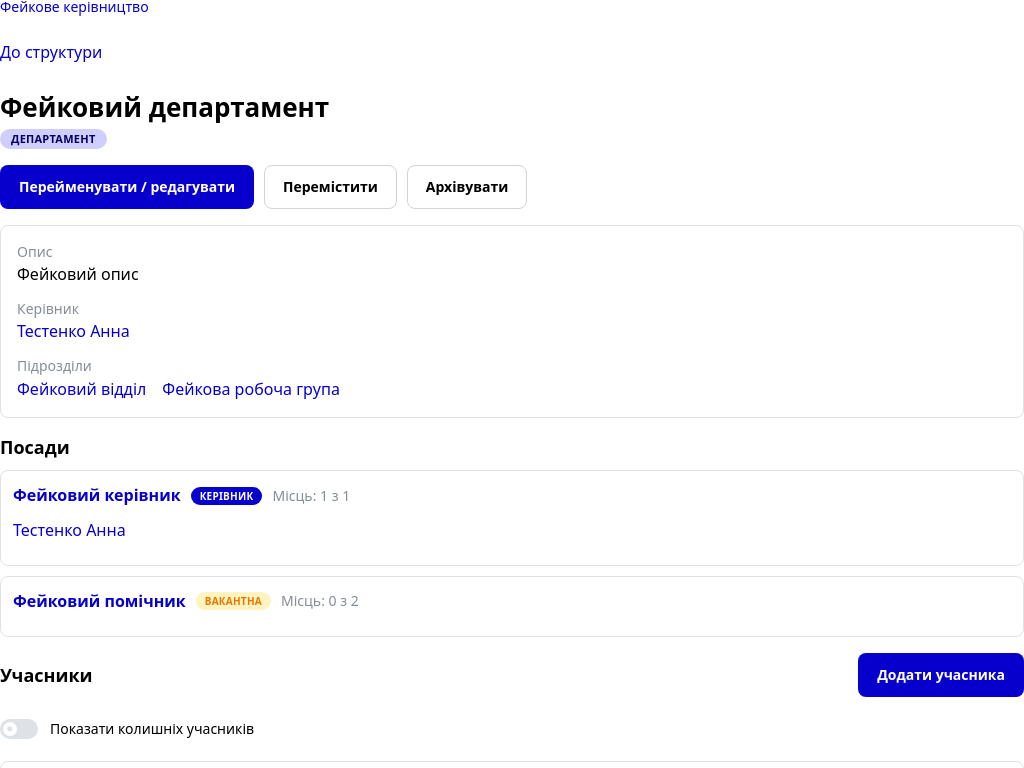
OrgUnitPage › shows the backend 403 as a missing permission
Click the button "Архівувати" at x=467, y=187, box [407,165,527,209]
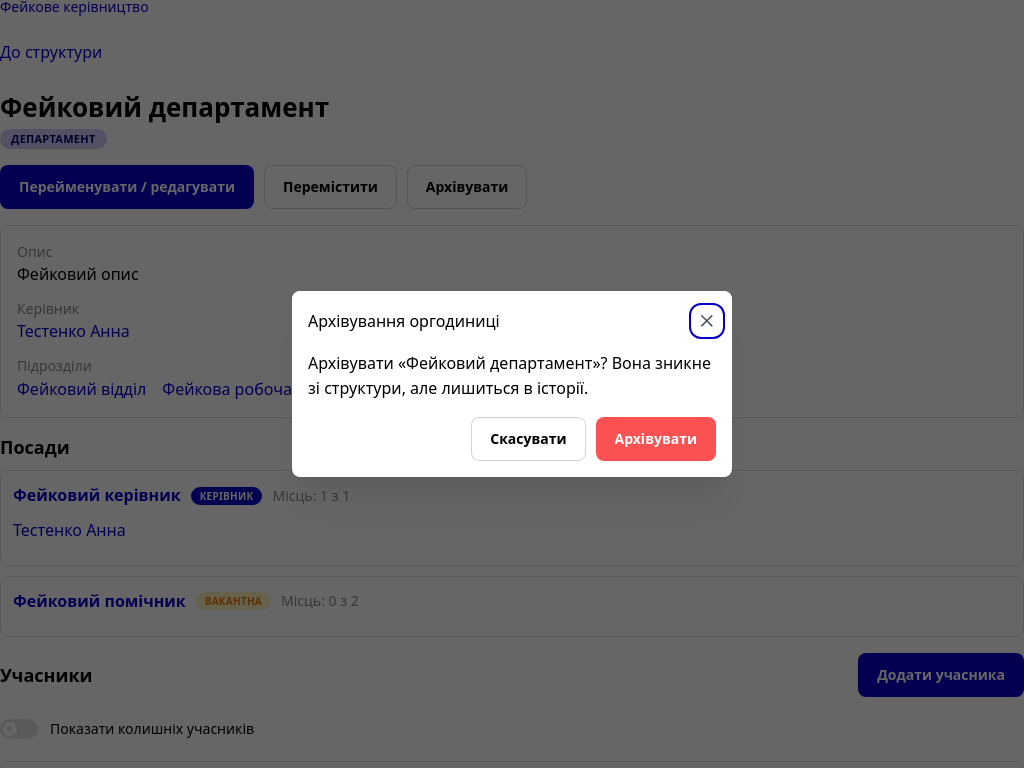
Click the button "Архівувати" at x=656, y=439, box [596,417,716,461]
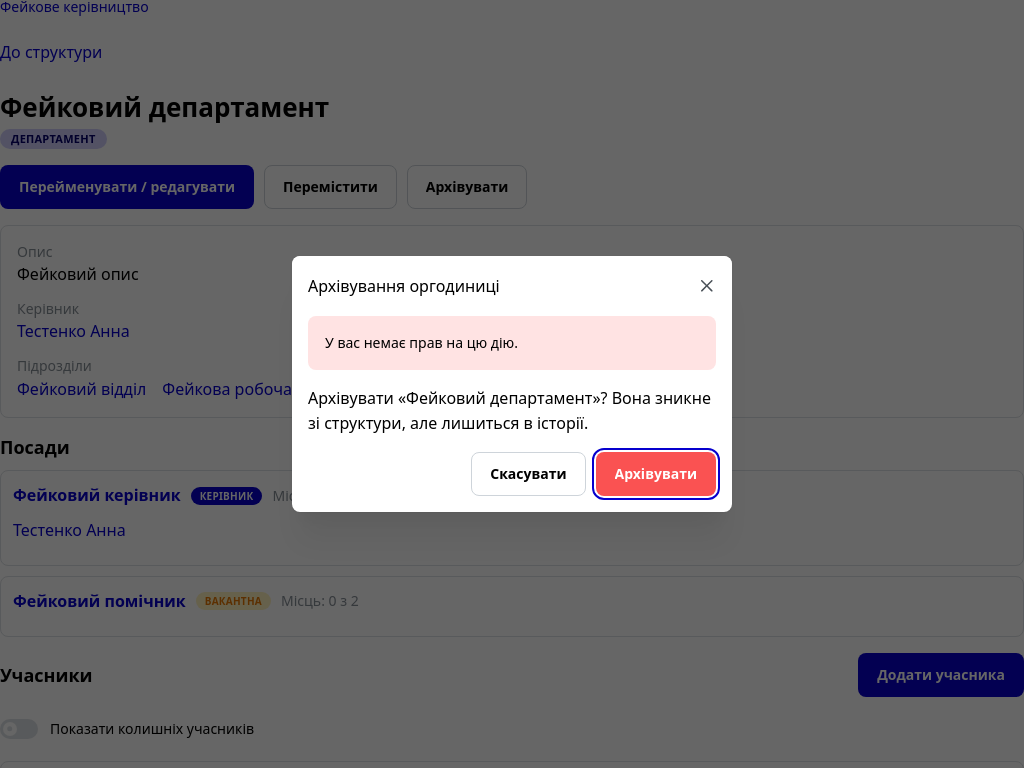
Expected: the text "У вас немає прав на цю дію." is shown, [325,333,518,352]
